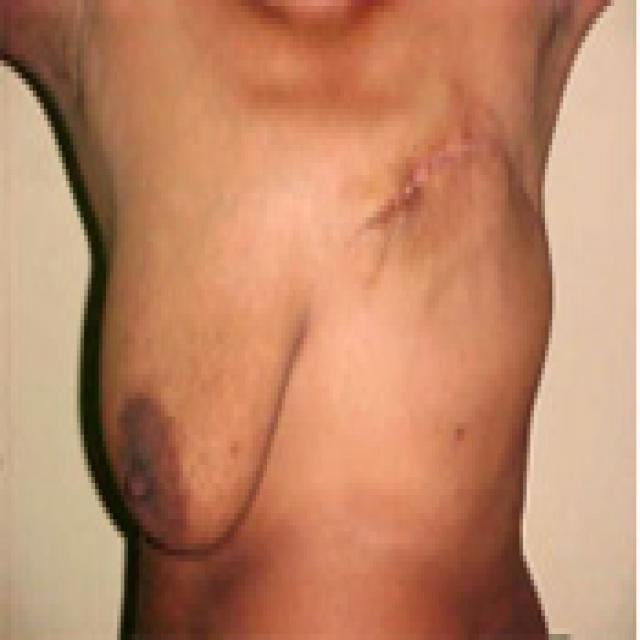Seno herido: (329, 66, 562, 427)
Seno ileso: (89, 158, 318, 589)
